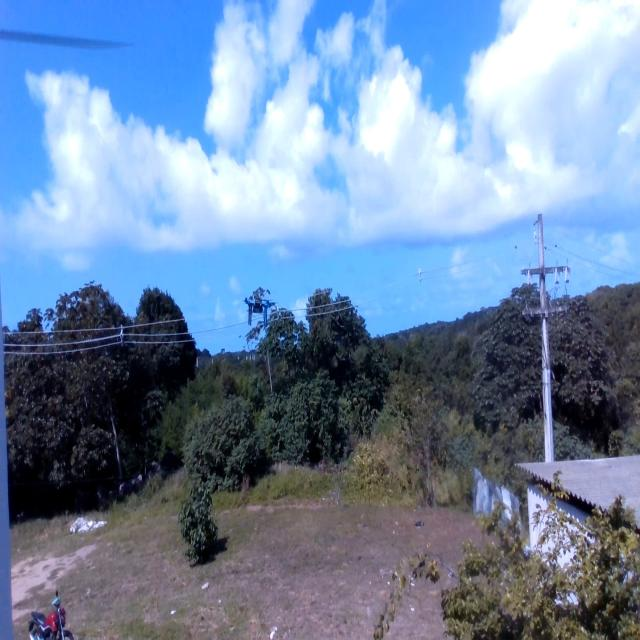-uav-: (242, 295, 272, 338)
